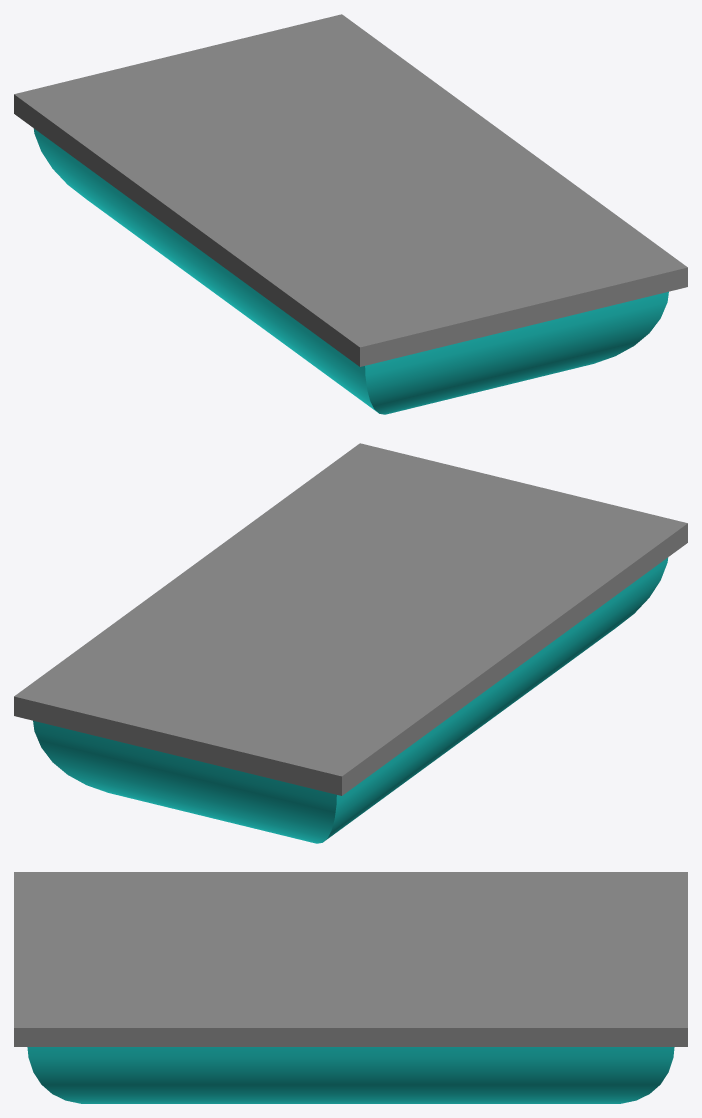
The model's file is lamp.fbx.
3 views of the same model, one above another, from view 1: azimuth 30°, elevation 25°; view 2: azimuth 150°, elevation 25°; view 3: azimuth 270°, elevation 25° (orthographic). The views are drawn at different scales.
Visible parts, largest first — view 1: lamp; view 2: lamp; view 3: lamp.
Part boxes in pixels (x1,y1,x2,y2): lamp: (14,14,687,414); lamp: (14,443,687,843); lamp: (14,872,687,1103).
Size of the model in its own units: 71.13 by 25 by 130.
